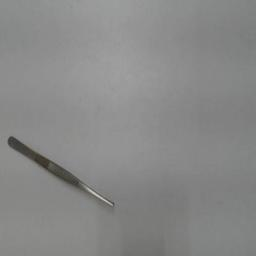Gillies Toothed Dissector: (6, 128, 122, 220)
